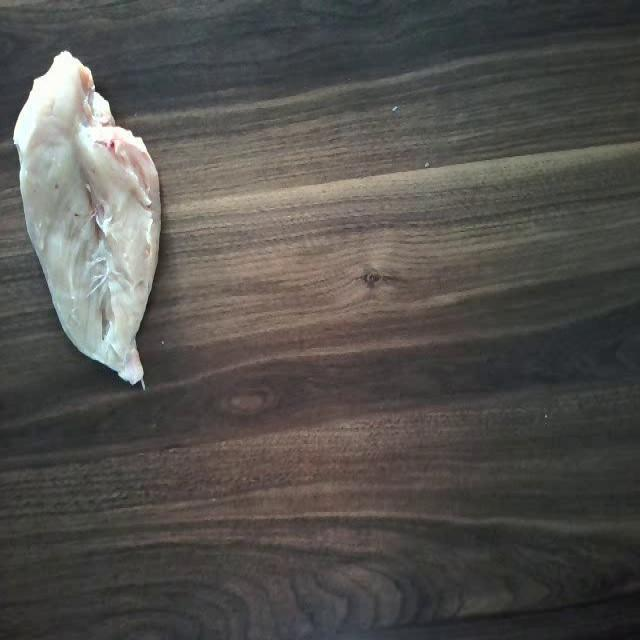breast: (7, 44, 170, 394)
